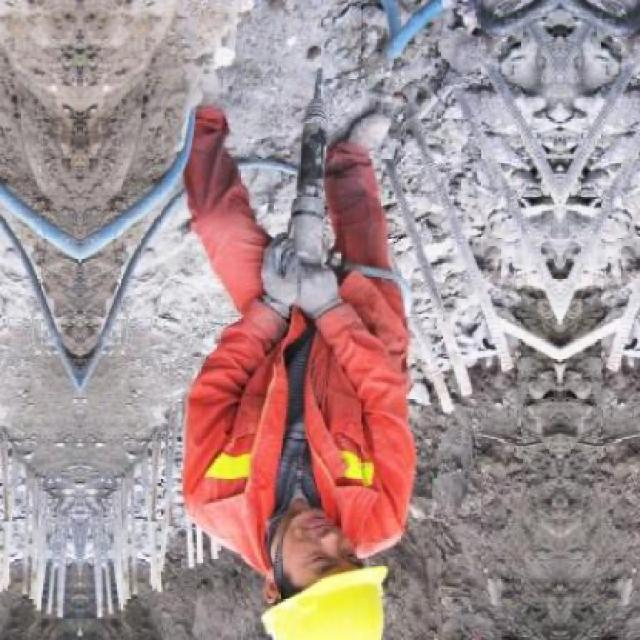con casco: (225, 460, 436, 640)
